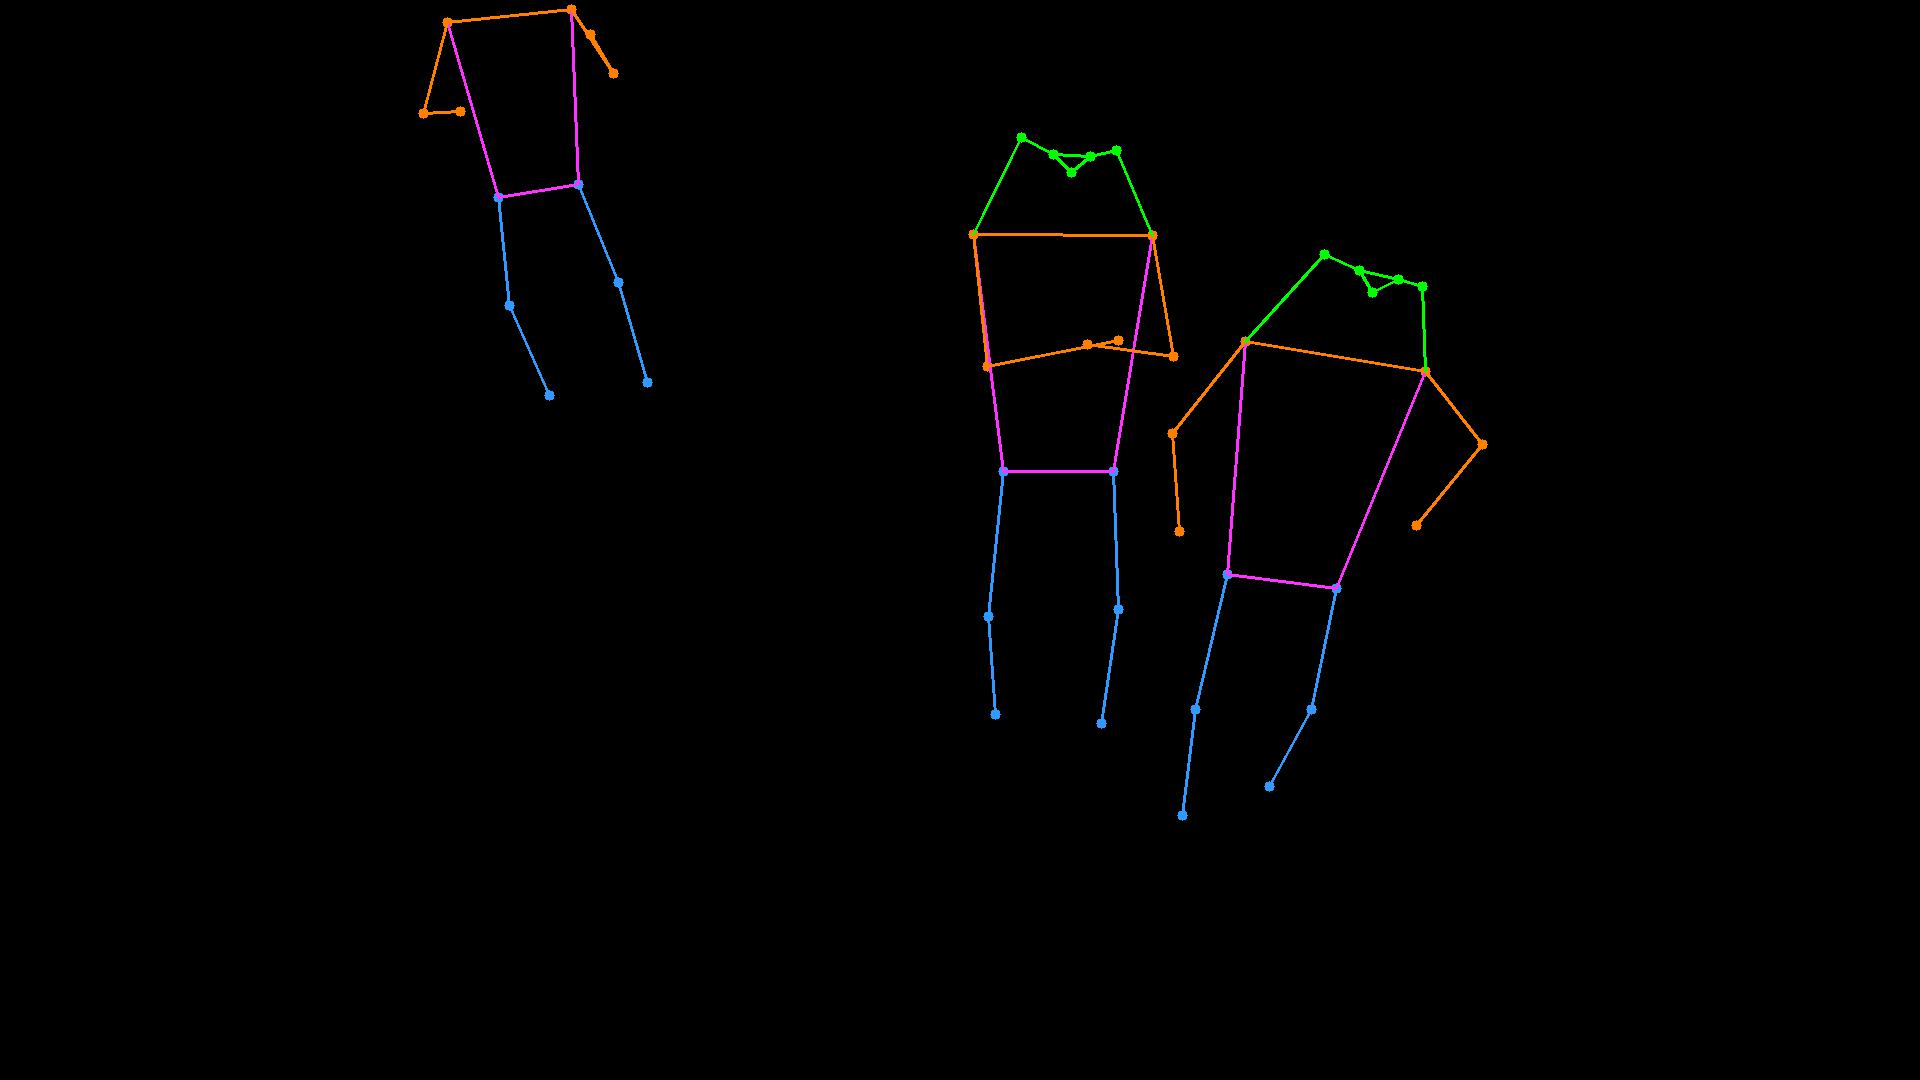normal: (866, 47, 1499, 869)
